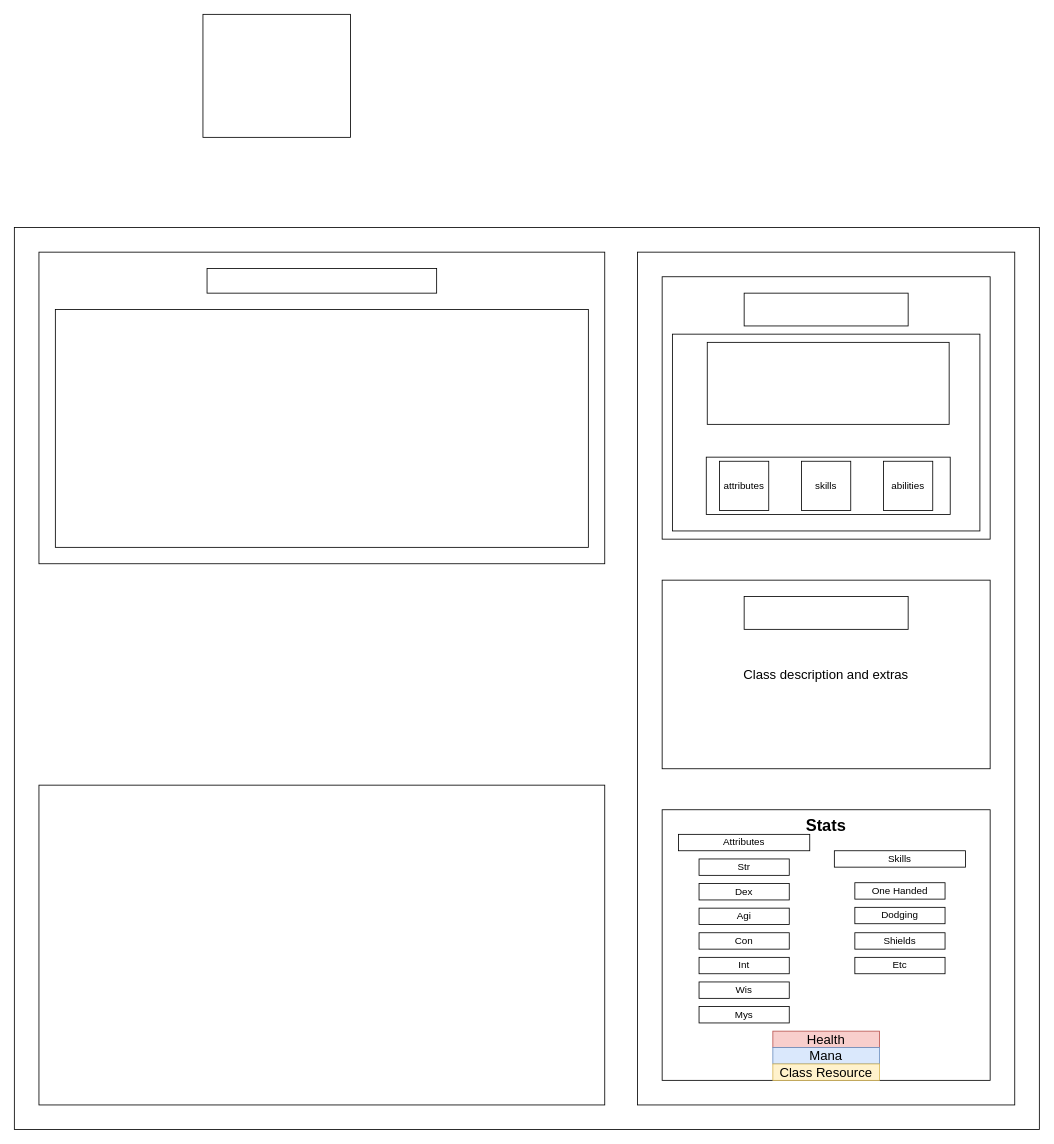
This 1054x1144 diagram has some shape labels left out. The shapes that lost their labels are listed below. From the top down, each one's centre as x and y in pixels, then its label:
At [276,75]: "class-main class-heading class-select clickable-class".
At [321,280]: "Class Select".
At [825,309]: "Class".
At [827,383]: "Description".
At [825,612]: "Race".
